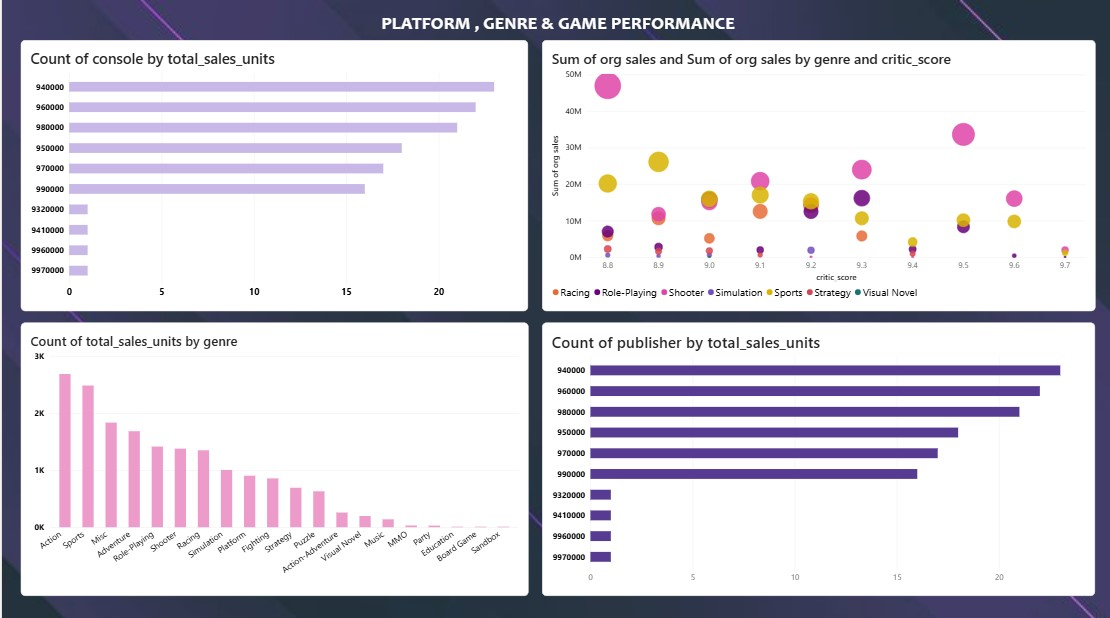

The dashboard page shown, as its layout file describes it:
{"tool":"powerbi","page":{"name":"Page 2","canvas":[1920,1080],"ordinal":1},"visuals":[{"type":"barChart","fields":{"Category":["data.total_sales_units"],"Y":["CountNonNull(data.console)"]},"box":[31.9,69,878.8,469.9],"z":0},{"type":"columnChart","fields":{"Category":["data.genre"],"Y":["CountNonNull(data.total_sales_units)"]},"box":[31.9,558.6,879.3,473.6],"z":1000},{"type":"barChart","fields":{"Category":["data.total_sales_units"],"Y":["CountNonNull(data.publisher)"]},"box":[934.5,558.6,957.9,473.6],"z":2000},{"type":"scatterChart","fields":{"Series":["data.genre"],"Size":["Sum(data.org sales)"],"X":["data.critic_score"],"Y":["Sum(data.org sales)"]},"box":[934.5,69,958.4,469.9],"z":3000},{"type":"textbox","box":[31.9,18.6,1861.1,50.4],"z":4000}]}

Visuals, with their boxes in screenshot pixels (x1, y1, x2, y2), scaled from the page's 1920x1080 canvas onto the 1110x618 screenshot:
barChart - data.total_sales_units x CountNonNull(data.console): rect(18, 39, 526, 308)
columnChart - data.genre x CountNonNull(data.total_sales_units): rect(18, 320, 527, 591)
barChart - data.total_sales_units x CountNonNull(data.publisher): rect(540, 320, 1094, 591)
scatterChart - data.genre x Sum(data.org sales): rect(540, 39, 1094, 308)
textbox: rect(18, 11, 1094, 39)
